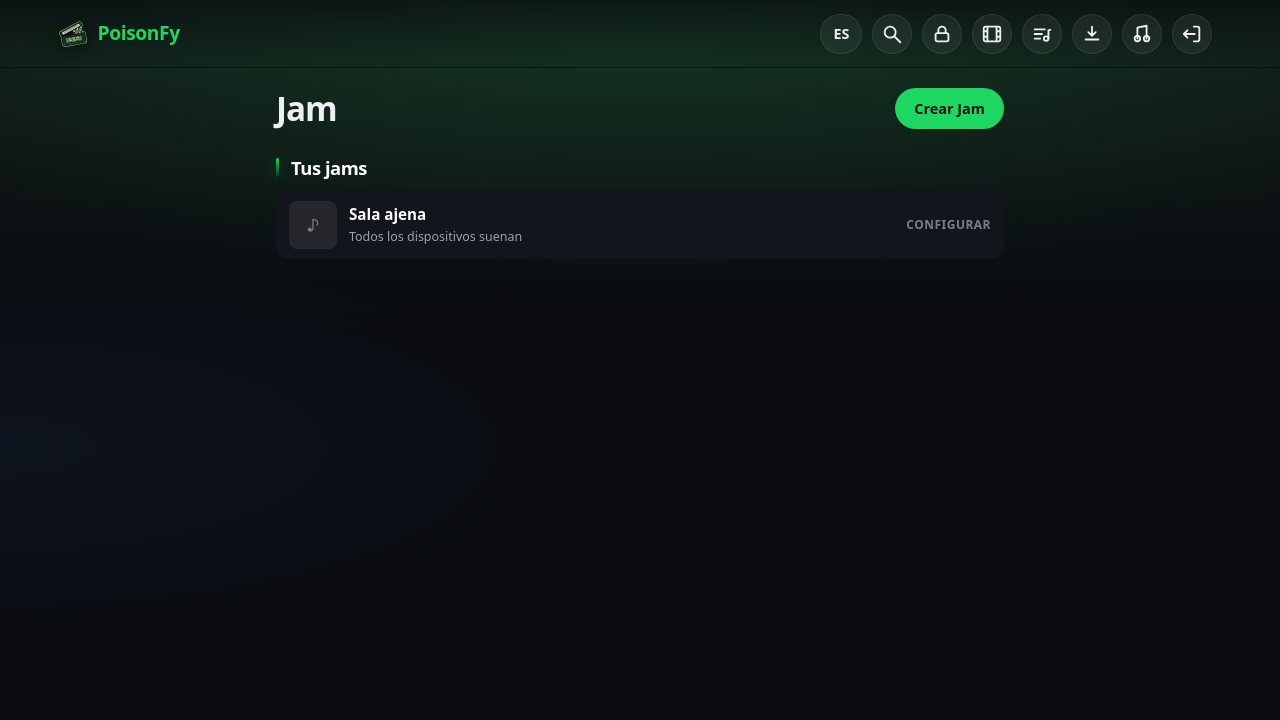
it: JamScreen › hides the user search and shows "Salir de la Jam" for a non-owner
Click the button "♪ Sala ajena Todos los dispositivos suenan Configurar" at (313, 225), box [276,190,1004,259]
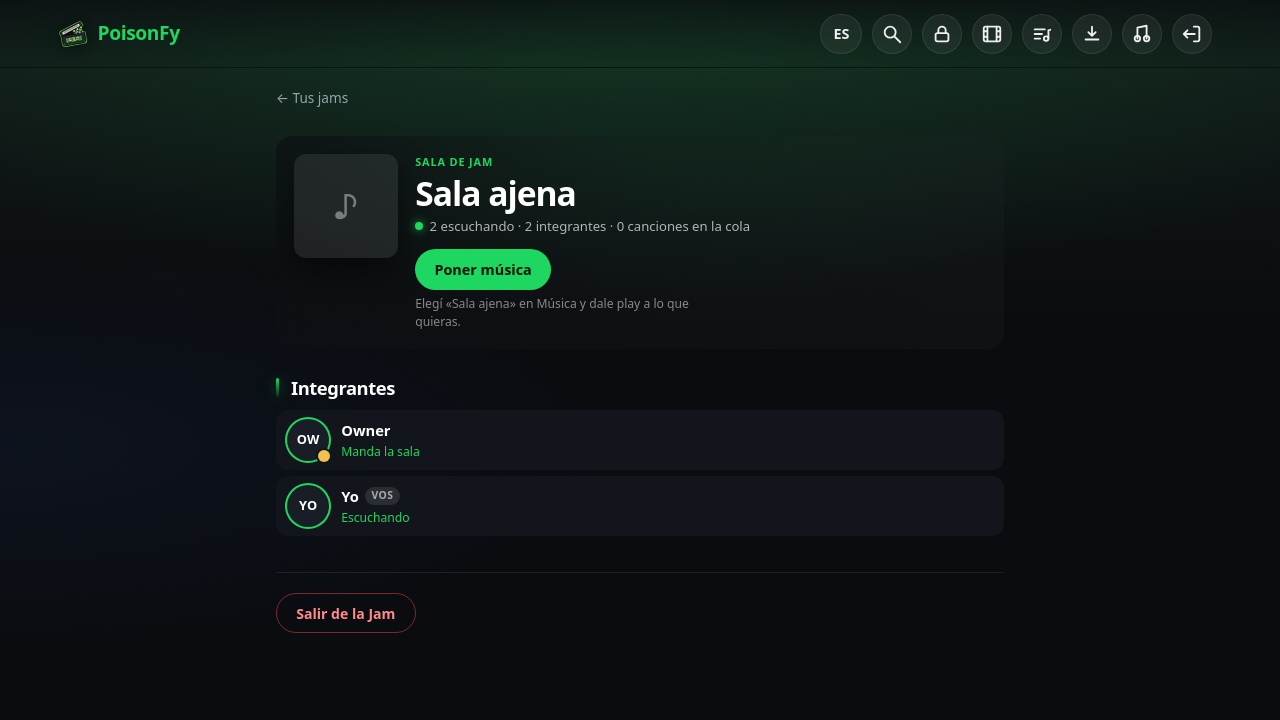
Expected: the button "Salir de la Jam" is shown, [276,593,416,633]
